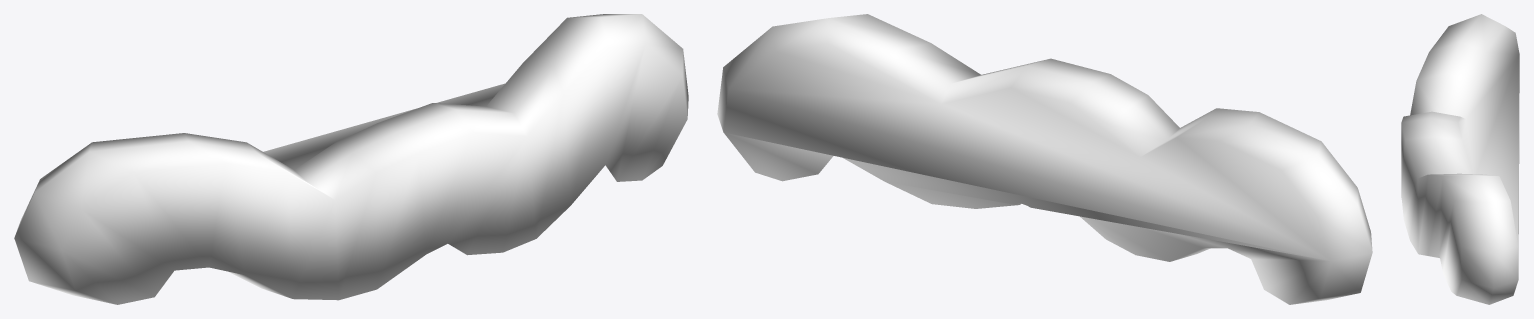
File: eyebrows_05.fbx
3 views of the same model, side by side, from view 1: azimuth 30°, elevation 25°; view 2: azimuth 150°, elevation 25°; view 3: azimuth 270°, elevation 25° (orthographic). The views are drawn at different scales.
Parts seen in each view (by area): view 1: Eyebrows_05; view 2: Eyebrows_05; view 3: Eyebrows_05.
Part boxes in pixels (box(x1,y1,x2,y2)): Eyebrows_05: box(14, 14, 688, 304); Eyebrows_05: box(717, 14, 1372, 304); Eyebrows_05: box(1401, 14, 1519, 304).
Bounding box in the file's own units: 80.84 × 20.26 × 17.77.
